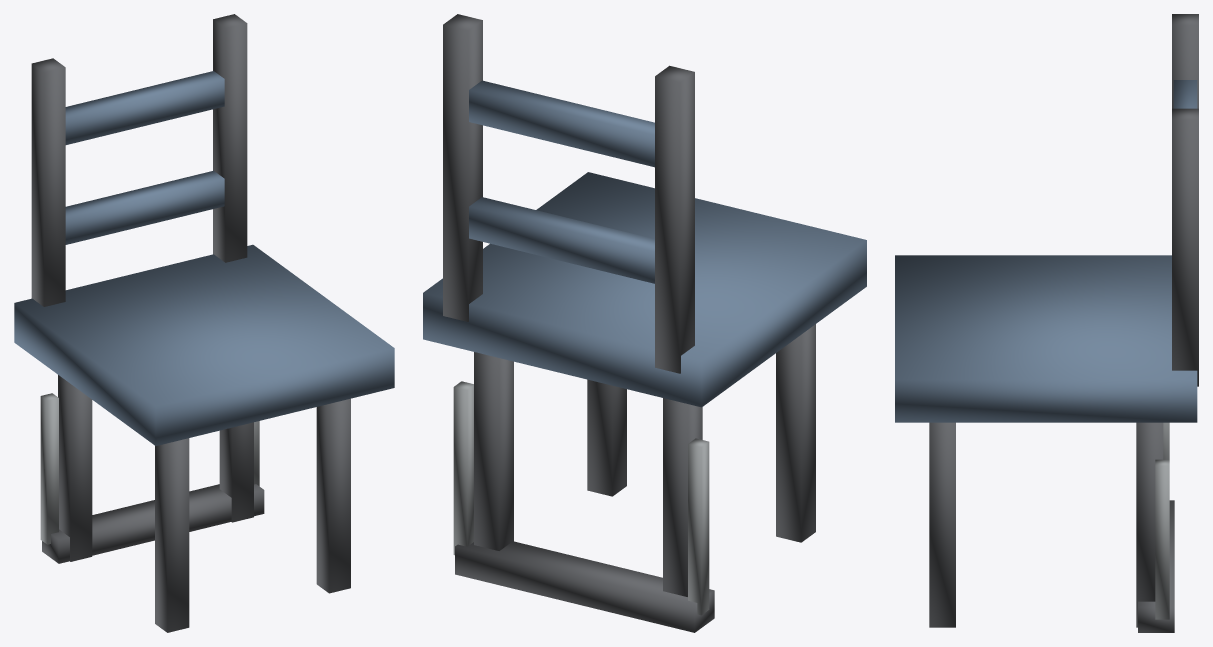
The model's file is station_bench__reinforced.glb.
The picture shows the model from 3 angles, left to right: view 1: azimuth 30°, elevation 25°; view 2: azimuth 150°, elevation 25°; view 3: azimuth 270°, elevation 25°; orthographic projection. The views are drawn at different scales.
Visible parts, largest first — view 1: world; view 2: world; view 3: world.
Part boxes in pixels (x1,y1,x2,y2): world: (14,14,394,632); world: (423,14,866,632); world: (895,14,1198,632).
Size of the model in its own units: 0.5108 by 0.9806 by 0.5265.
